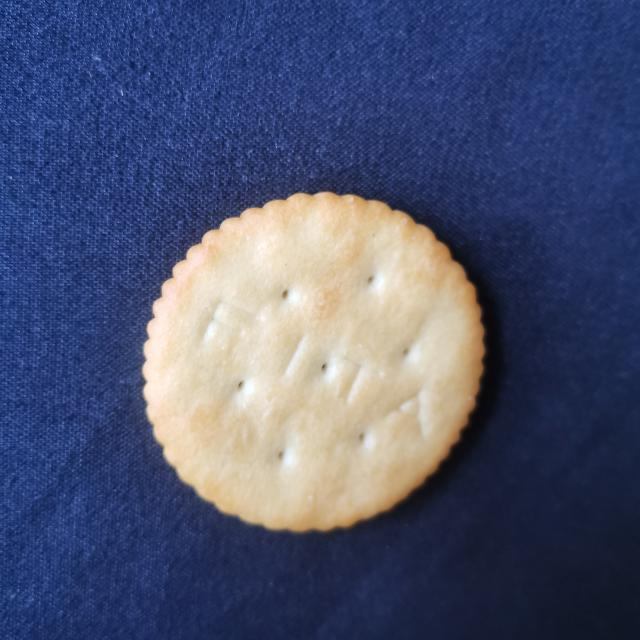Intact: (129, 185, 490, 543)
